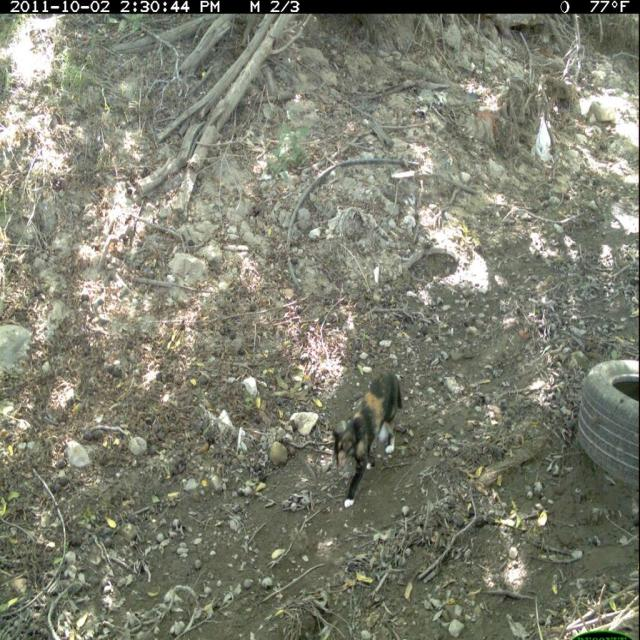cat: (330, 360, 409, 510)
